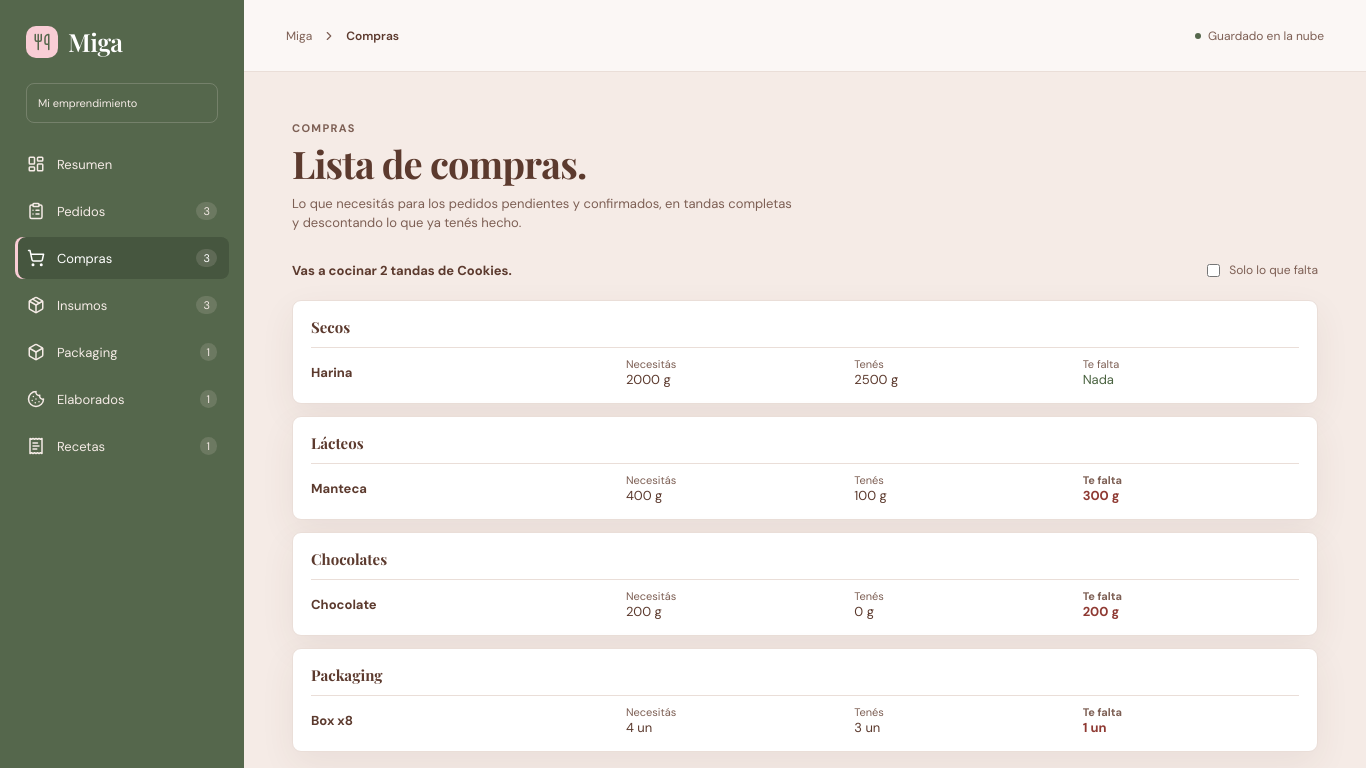
Scenario: Shopping list › can show only what is missing
Step 1. Click the checkbox labelled "Solo lo que falta" → (1214, 270), box [1207,264,1220,277]
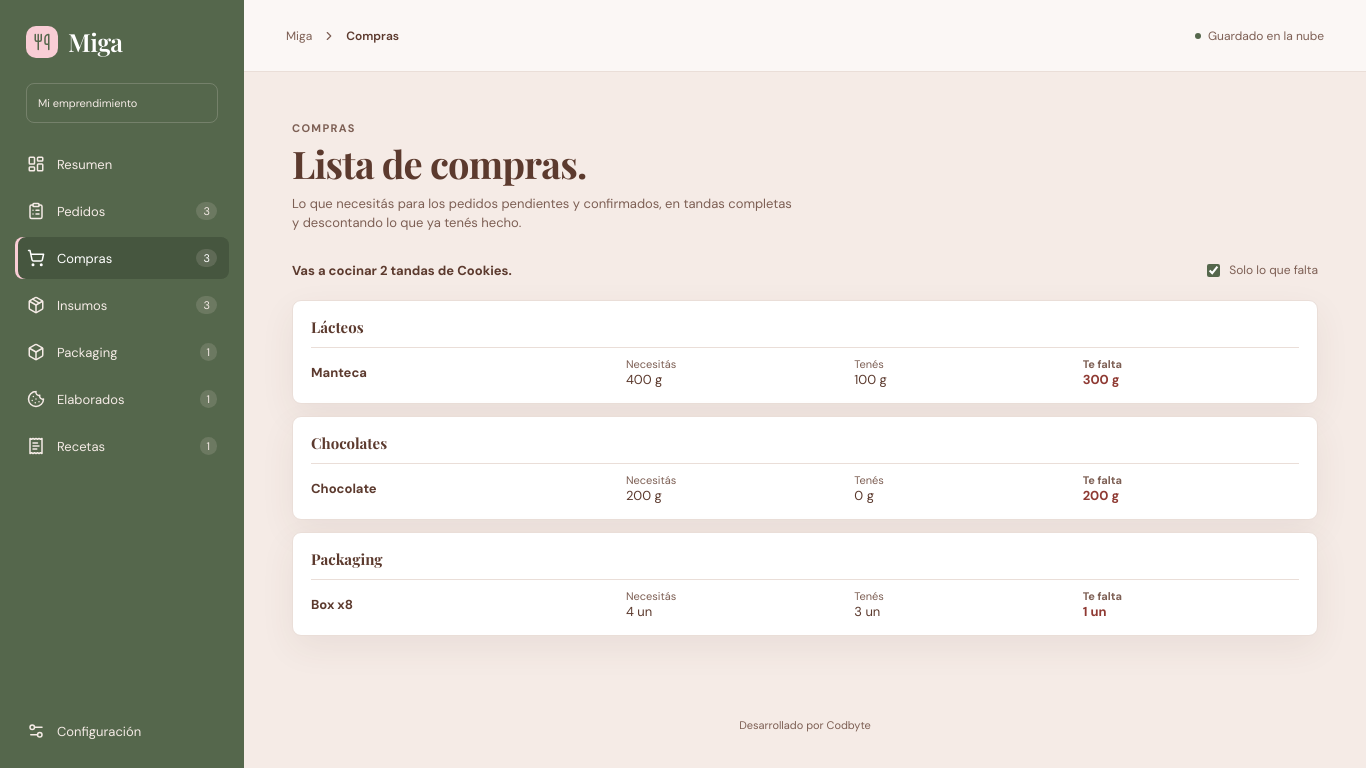
expect the text "Manteca" is shown: met, box [311,364,367,381]
expect the text "Harina" is gone: met
